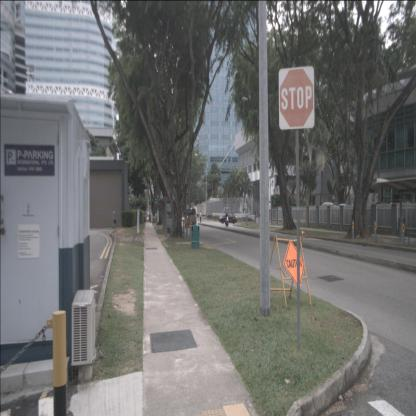human-pedestrian-adult: (112, 208, 117, 229), (198, 211, 202, 223), (258, 211, 260, 223), (254, 211, 256, 223)
vehicle-car: (184, 208, 196, 227), (219, 212, 237, 224), (318, 202, 334, 212)
vehicle-motorcycle: (224, 211, 229, 228)
